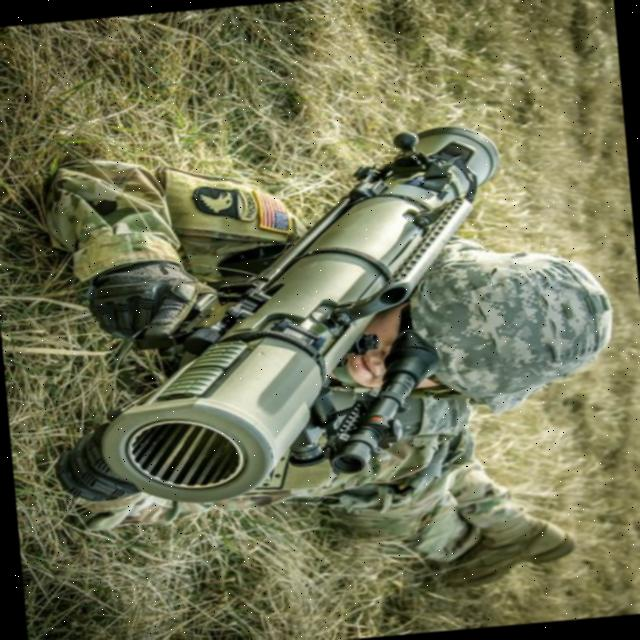Bazooka: (48, 120, 522, 508)
